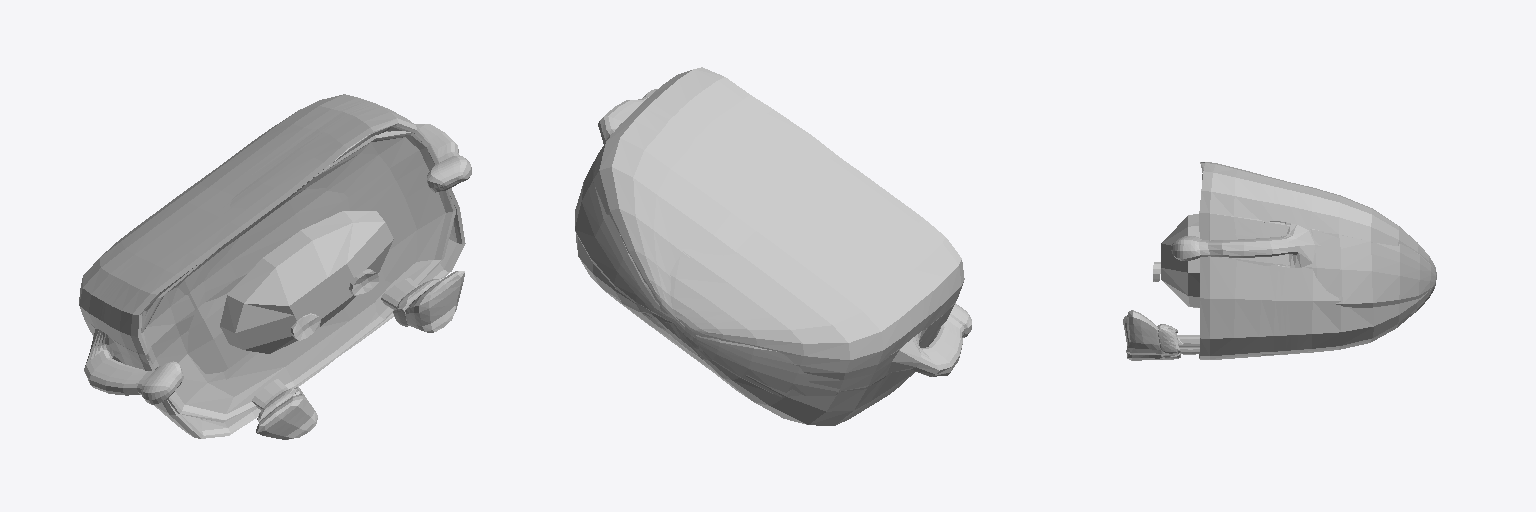
File: Pal_000028.obj
The picture shows the model from 3 angles: view 1: azimuth 30°, elevation 25°; view 2: azimuth 150°, elevation 25°; view 3: azimuth 270°, elevation 25°; orthographic projection.
Parts seen in each view (by area): view 1: Cuerpo_de_aguacate_3.001_Cube.002, Hueso_Cubo.003, Ojos_Cubo.002; view 2: Cuerpo_de_aguacate_3.001_Cube.002; view 3: Cuerpo_de_aguacate_3.001_Cube.002, Hueso_Cubo.003.
Part boxes in pixels (bbox=[...]): Cuerpo_de_aguacate_3.001_Cube.002: bbox=[79, 94, 471, 439]; Hueso_Cubo.003: bbox=[220, 211, 393, 353]; Ojos_Cubo.002: bbox=[291, 269, 378, 340]; Cuerpo_de_aguacate_3.001_Cube.002: bbox=[575, 67, 971, 425]; Cuerpo_de_aguacate_3.001_Cube.002: bbox=[1123, 162, 1436, 360]; Hueso_Cubo.003: bbox=[1161, 214, 1199, 307].
Size of the model in its own units: 1.3 by 0.9646 by 1.01.